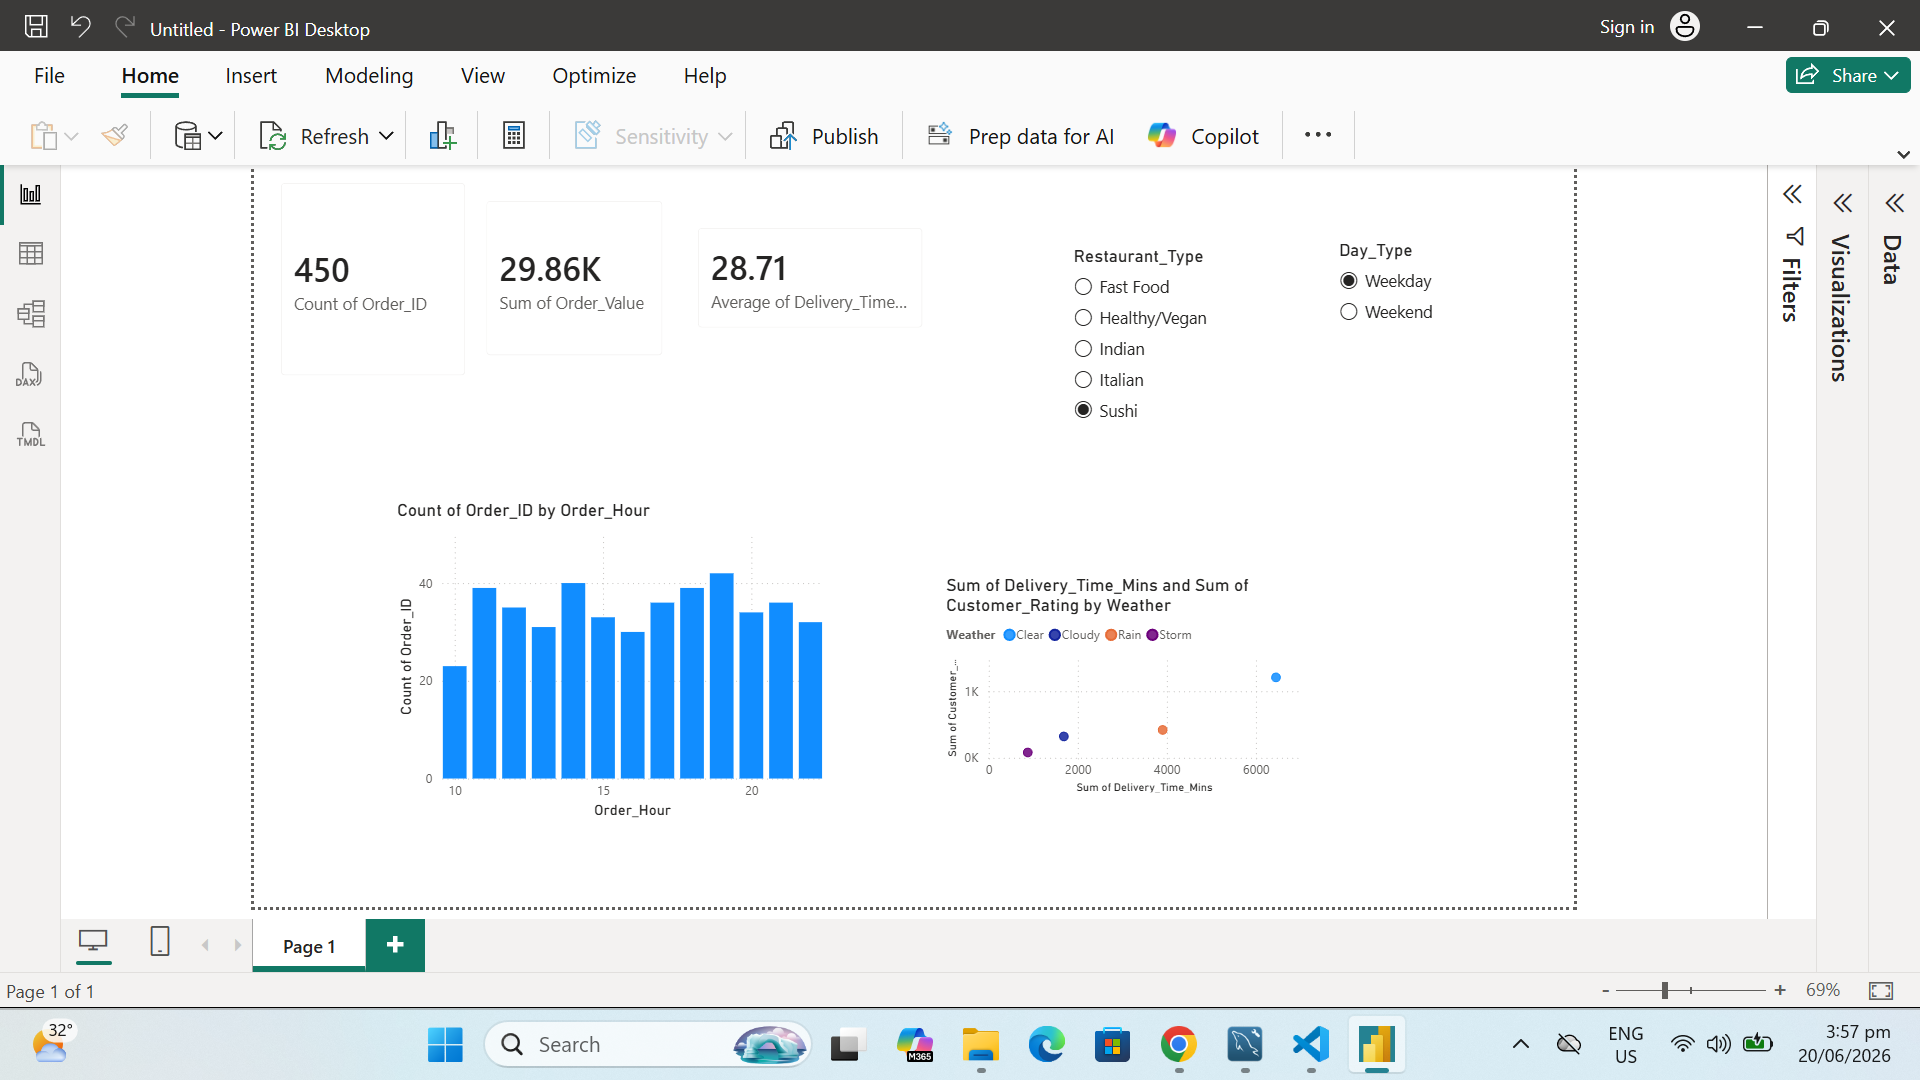

The dashboard page shown, as its layout file describes it:
{"tool":"powerbi","page":{"name":"Page 1","canvas":[1280,720],"ordinal":0},"visuals":[{"type":"cardVisual","fields":{"Data":["Count(cleaned_food_delivery.Order_ID)"]},"box":[9.4,0,213.5,221.1],"z":0},{"type":"cardVisual","fields":{"Data":["Sum(cleaned_food_delivery.Order_Value)"]},"box":[207.4,18.2,205.9,184.7],"z":1},{"type":"cardVisual","fields":{"Data":["Avg(cleaned_food_delivery.Delivery_Time_Mins)"]},"box":[413.4,43.9,252.9,131.7],"z":2},{"type":"clusteredColumnChart","fields":{"Category":["cleaned_food_delivery.Order_Hour"],"Y":["CountNonNull(cleaned_food_delivery.Order_ID)"]},"box":[133.3,324,422.5,313.4],"z":3},{"type":"scatterChart","fields":{"X":["Sum(cleaned_food_delivery.Delivery_Time_Mins)"],"Y":["Sum(cleaned_food_delivery.Customer_Rating)"],"Series":["cleaned_food_delivery.Weather"]},"box":[666.3,396.7,366.4,216.5],"z":4},{"type":"listSlicer","fields":{"Values":["cleaned_food_delivery.Restaurant_Type"]},"box":[790.4,78.7,165,216.5],"z":5},{"type":"listSlicer","fields":{"Values":["cleaned_food_delivery.Day_Type"]},"box":[1047.8,72.7,165,230.2],"z":6}]}

Visuals, with their boxes on the page's 1280x720 design canvas (x1, y1, x2, y2). These are canvas units, not pixel positions in the 1920x1080 screenshot, which may show the page scaled, cropped or inside an application window:
cardVisual - Count(cleaned_food_delivery.Order_ID): rect(9, 0, 223, 221)
cardVisual - Sum(cleaned_food_delivery.Order_Value): rect(207, 18, 413, 203)
cardVisual - Avg(cleaned_food_delivery.Delivery_Time_Mins): rect(413, 44, 666, 176)
clusteredColumnChart - cleaned_food_delivery.Order_Hour x CountNonNull(cleaned_food_delivery.Order_ID): rect(133, 324, 556, 637)
scatterChart - Sum(cleaned_food_delivery.Delivery_Time_Mins) x Sum(cleaned_food_delivery.Customer_Rating): rect(666, 397, 1033, 613)
listSlicer - cleaned_food_delivery.Restaurant_Type: rect(790, 79, 955, 295)
listSlicer - cleaned_food_delivery.Day_Type: rect(1048, 73, 1213, 303)
